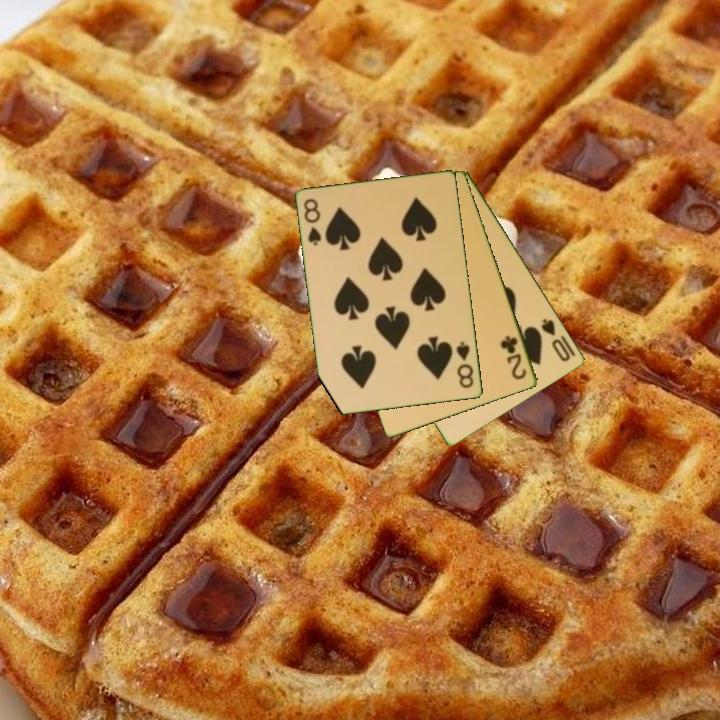10s: (538, 315, 574, 365)
2c: (497, 332, 530, 383)
8s: (453, 338, 477, 391), (301, 195, 324, 248)
